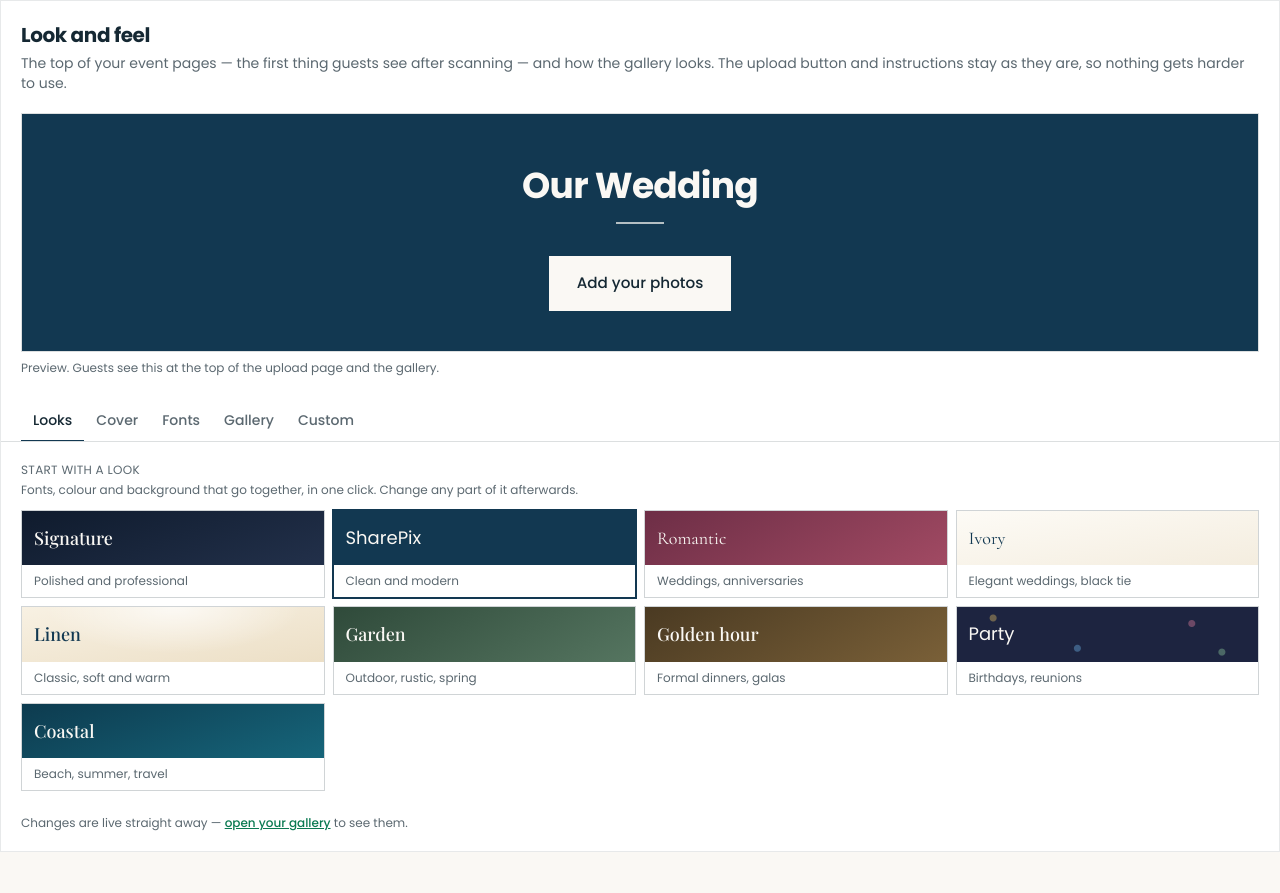
Test: Look and feel, in tabs › opens on Looks and shows one tab at a time, with the preview always there
Expected: the number of panels is 1, [21,462,1259,791]
Expected: the text "Start with a look" is shown, [21,462,140,478]
Click the tab "Gallery".
click(249, 421)  # box [212,400,286,442]
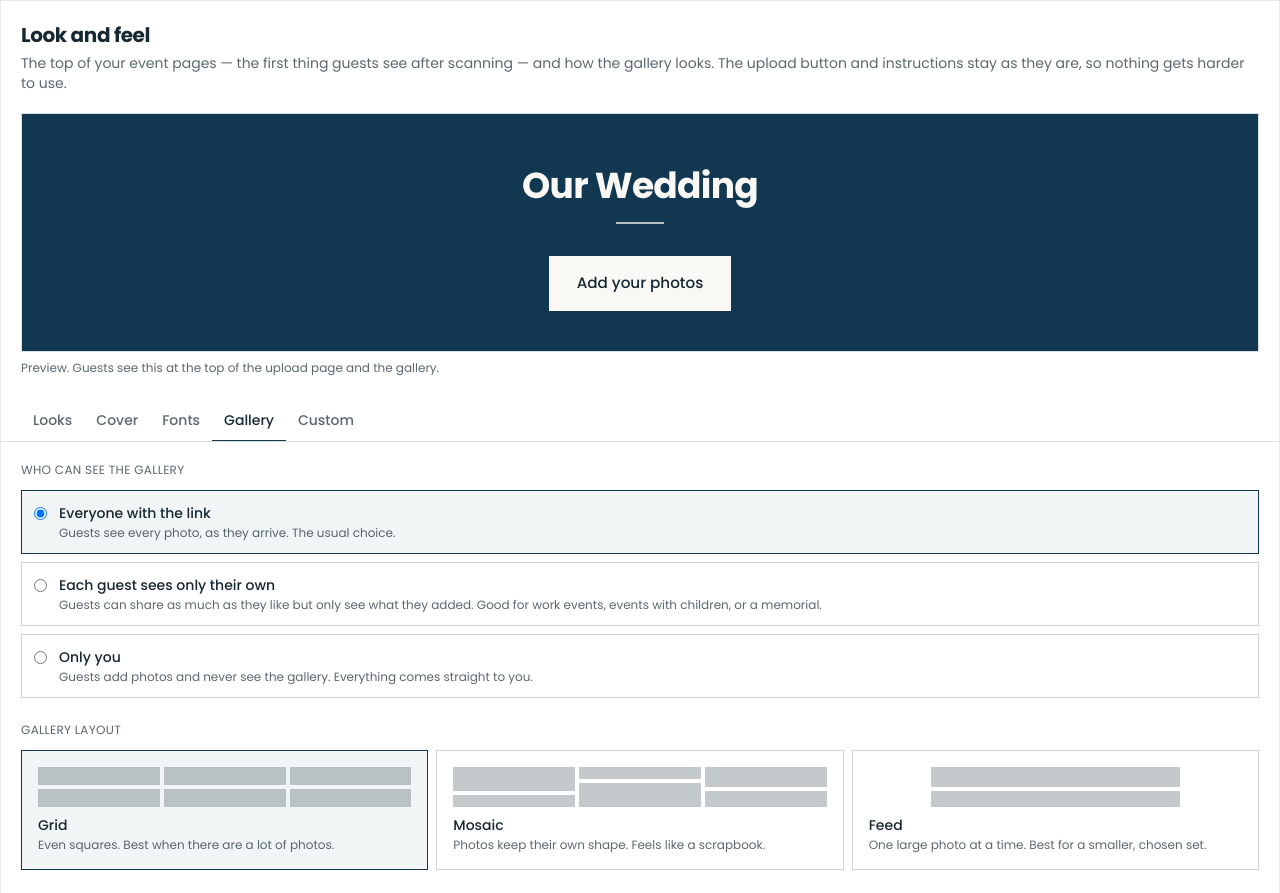
Expected: the text "Preview." is shown, [21,359,439,376]
Expected: the text "Start with a look" is gone
